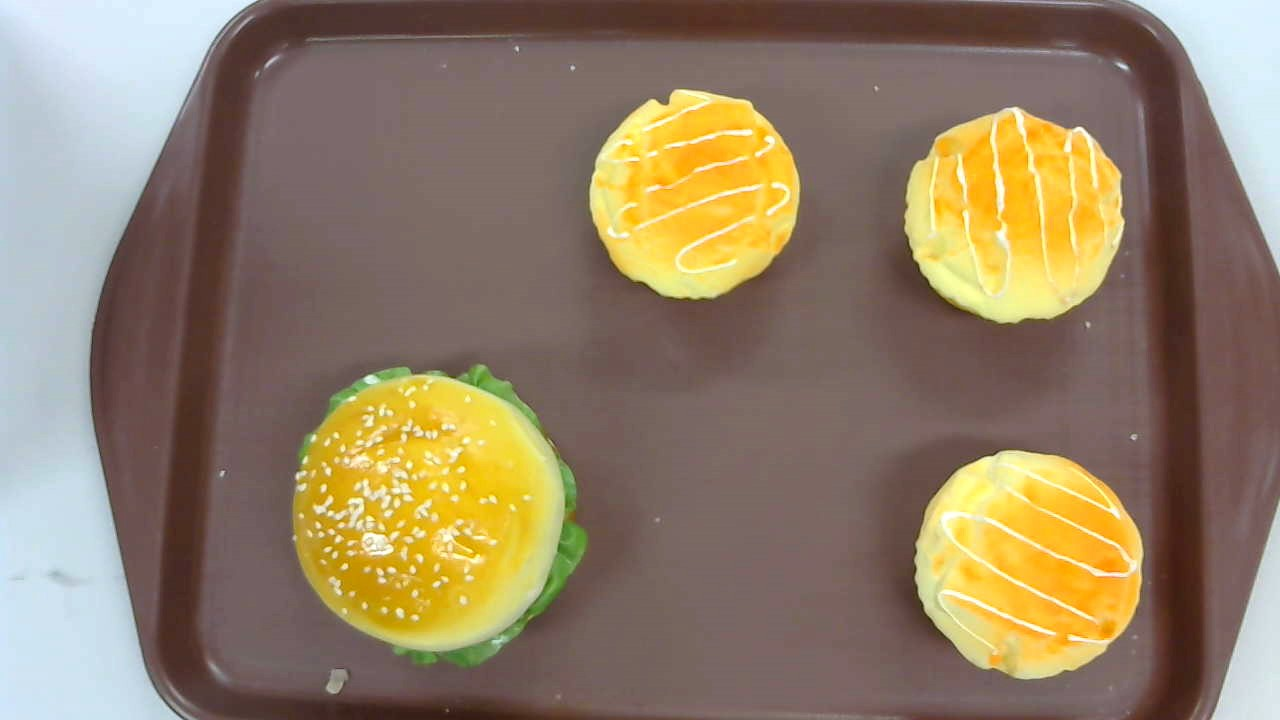cupcake: (913, 445, 1143, 680), (904, 106, 1125, 325), (589, 87, 799, 301)
hamburger: (291, 362, 588, 668)
